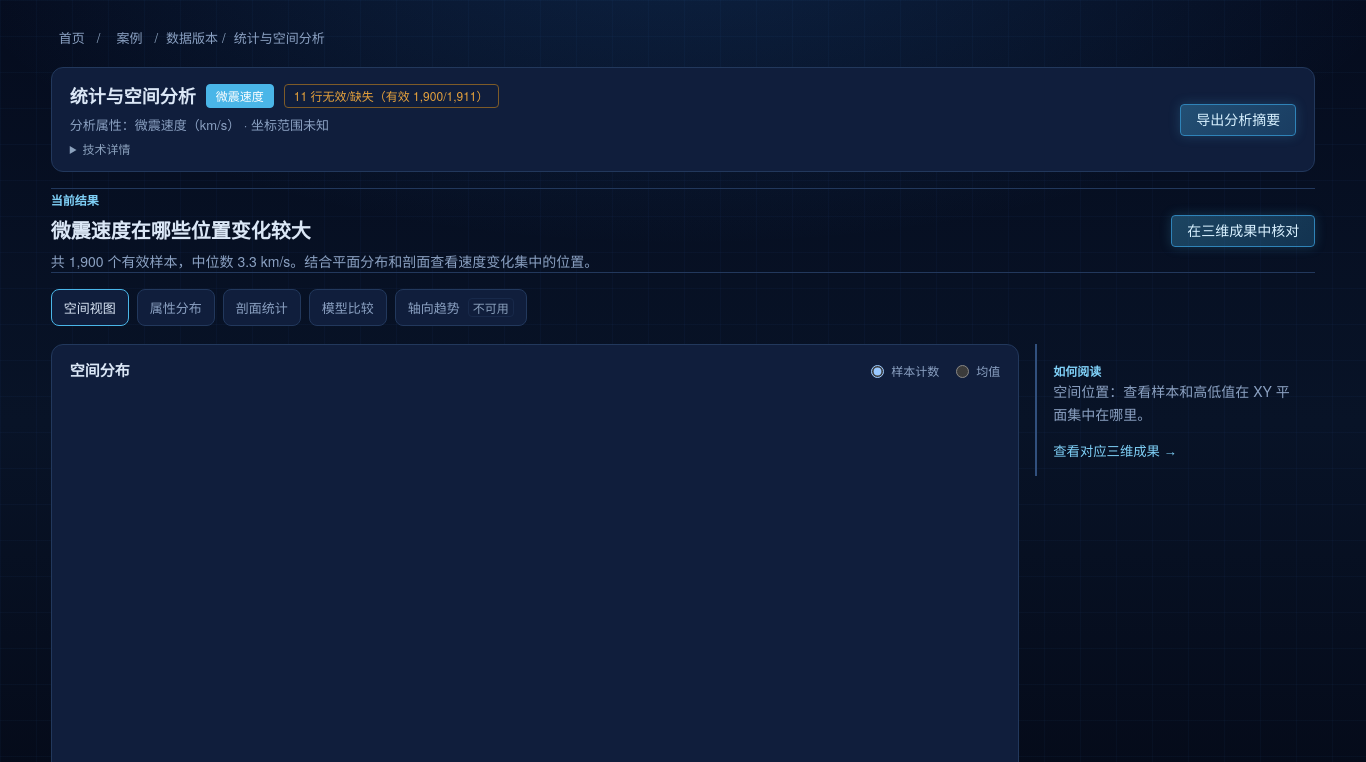
Scenario: AnalysisCenterView（A+B 壳） › 模型证据是独立分析视角，选择后才显示候选指标
Click the button with test id "module-nav-item-model_comparison" at (348, 308), box [309,289,387,326]
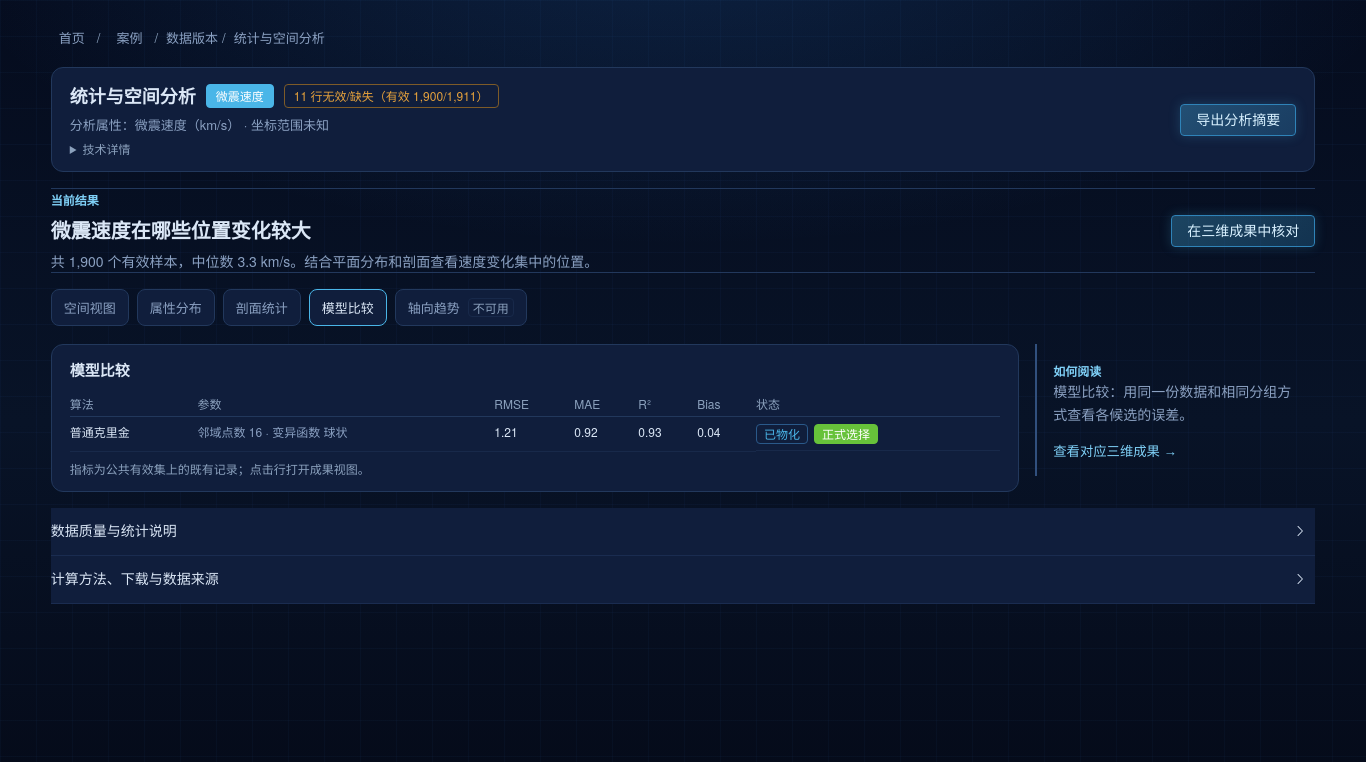
Expected: the element with test id "model-comparison-panel" is shown, [51,344,1019,492]
Expected: the element with test id "context-evidence" shows "模型比较", [1053,381,1291,424]
